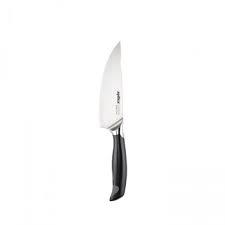Knife: (98, 40, 127, 201)
